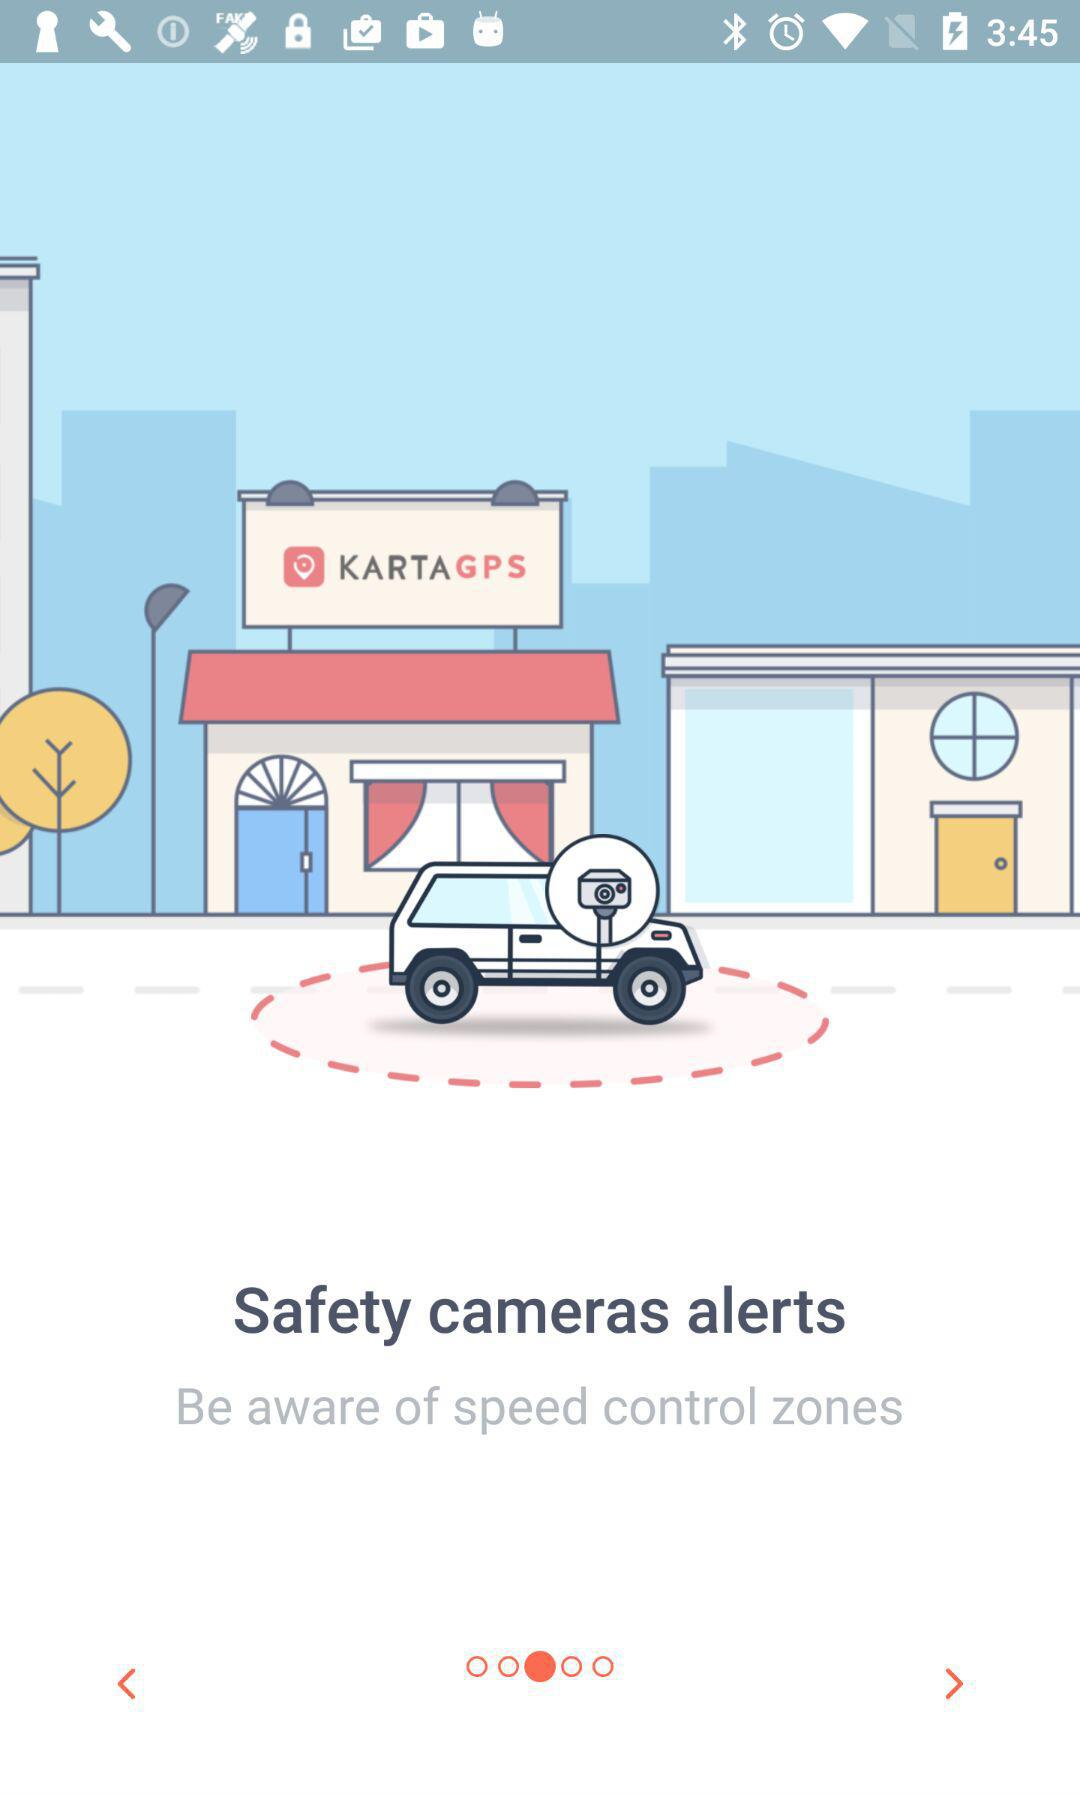Icon: (117, 1667, 138, 1700), (944, 1667, 965, 1702)
Image: (1, 64, 1079, 1092)
PageIndicator: (464, 1649, 616, 1684)
Text: (234, 1283, 847, 1349), (177, 1384, 904, 1438)
UpperTaskBar: (1, 1, 1080, 64)
